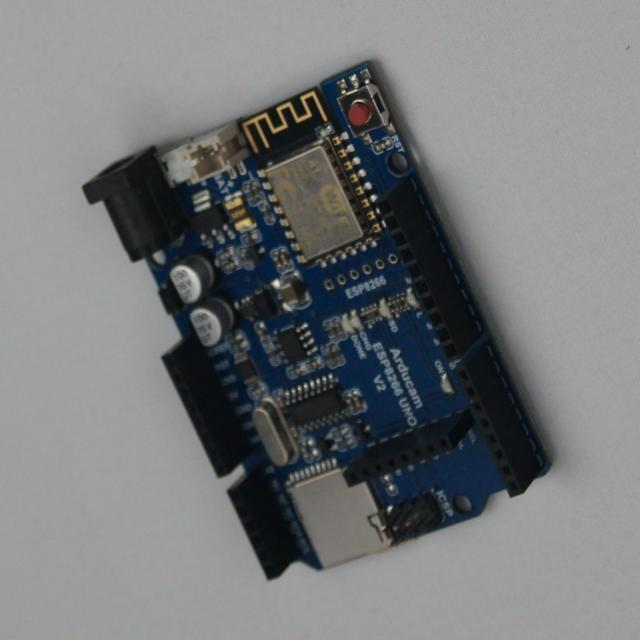Arduino Uno Camera Shield: (84, 62, 548, 579)
